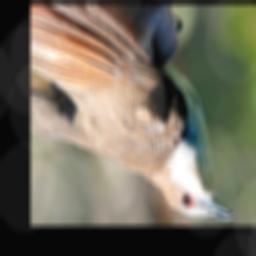Cuckoo: (30, 4, 237, 219)
